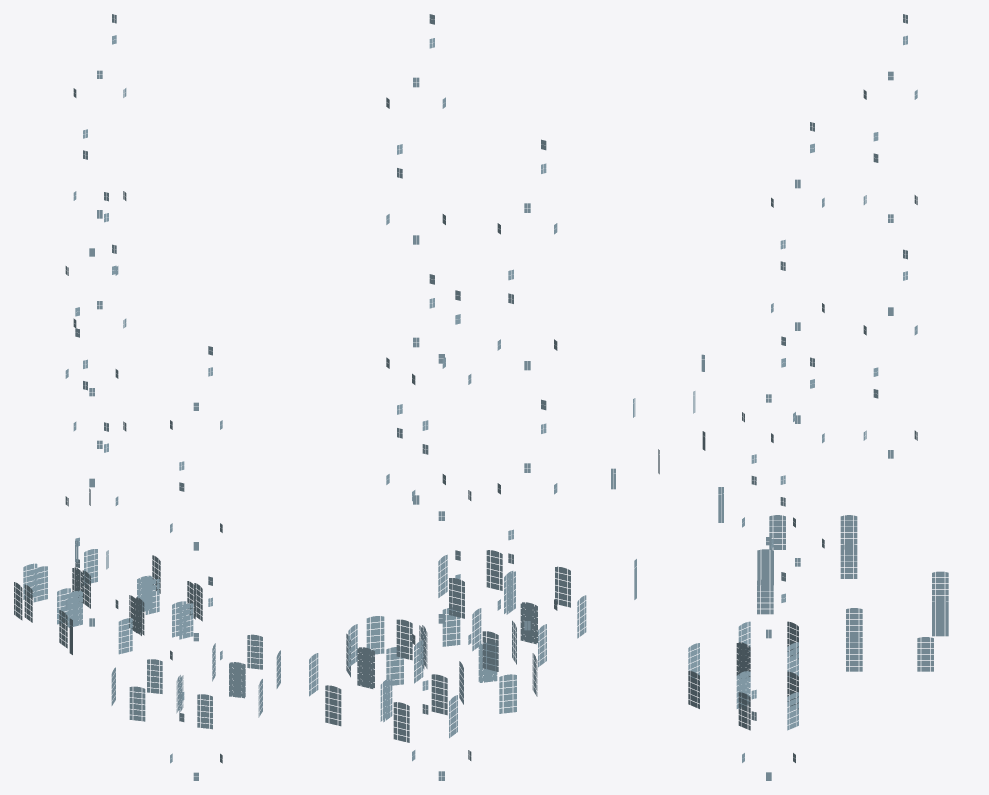
File: FairyTale7.gltf
3 renders of one model, left to right at view 1: azimuth 30°, elevation 25°; view 2: azimuth 150°, elevation 25°; view 3: azimuth 270°, elevation 25°, orthographic. The views are drawn at different scales.
Parts seen in each view (by area): view 1: CastleLG_Glass001; view 2: CastleLG_Glass001; view 3: CastleLG_Glass001.
Part boxes in pixels (x1,y1,x2,y2): CastleLG_Glass001: (14,14,280,780); CastleLG_Glass001: (309,14,659,780); CastleLG_Glass001: (688,14,948,780).
Bounding box in the file's own units: 32.08 × 93.3 × 33.42.
